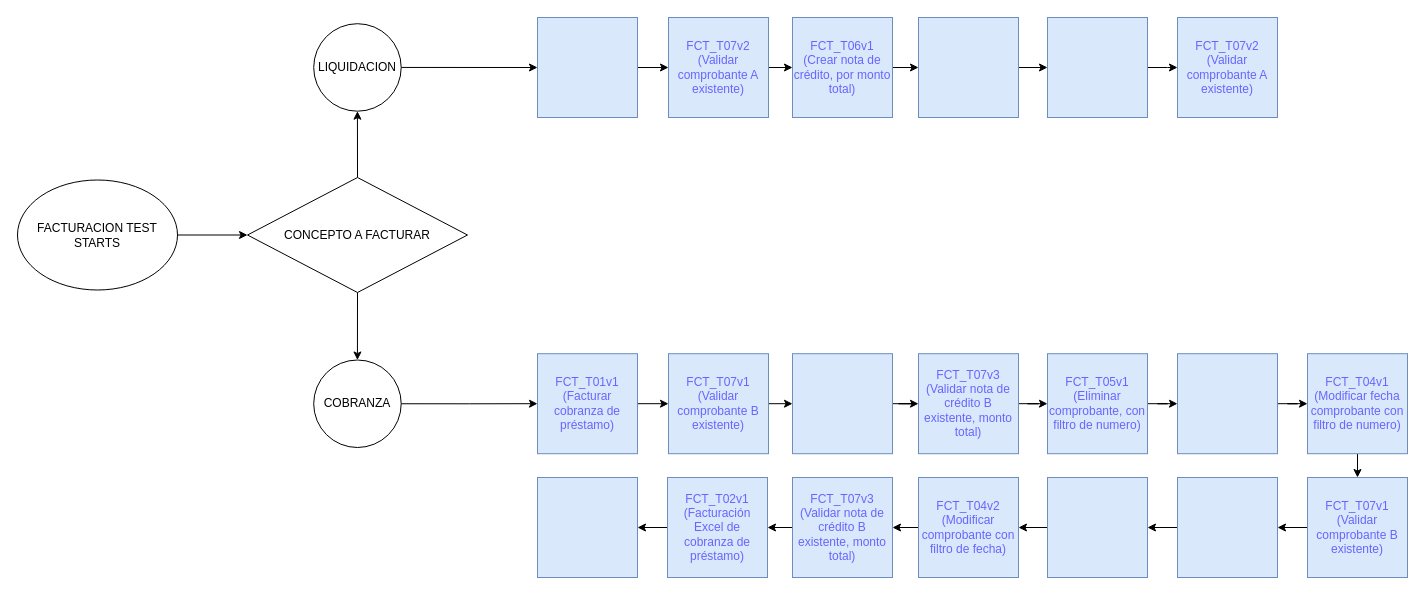
Image size: 1425x595. Some labels were removed from this diagram. The shapes that lost their labels are listed below. From the top down, each one's centre as x and y in pixels, then its label:
At point (587, 67): "FCT_T03v1 (Facturar liquidación a comercio)".
At point (968, 67): "FCT_T07v5 (Validar nota de crédito existente, monto total)".
At point (1097, 67): "FCT_T02v2 (Facturación Excel de liquidación a comercio)".
At point (842, 403): "FCT_T06v1 (Crear nota de crédito B, por monto total)".
At point (1227, 403): "FCT_T07v6 (Validar comprobante eliminado)".
At point (587, 527): "FCT_T07v5 (Validar comprobante B creado contra archivo Excel)".
At point (1097, 527): "FCT_T07v4 (Validar nota de crédito B existente, monto especial/parcial)".
At point (1227, 527): "FCT_T06v2 (Crear nota de crédito B, por monto especial/parcial)".
